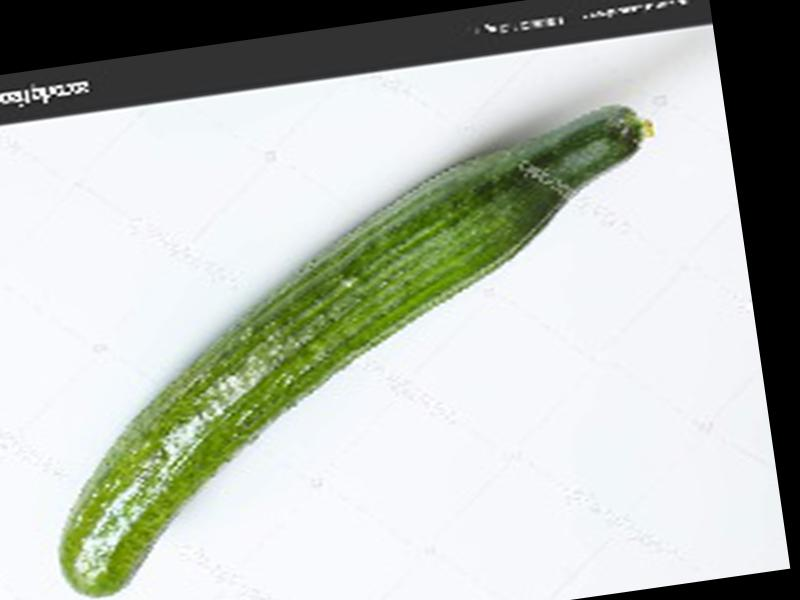Cucumber: (11, 104, 707, 600)
